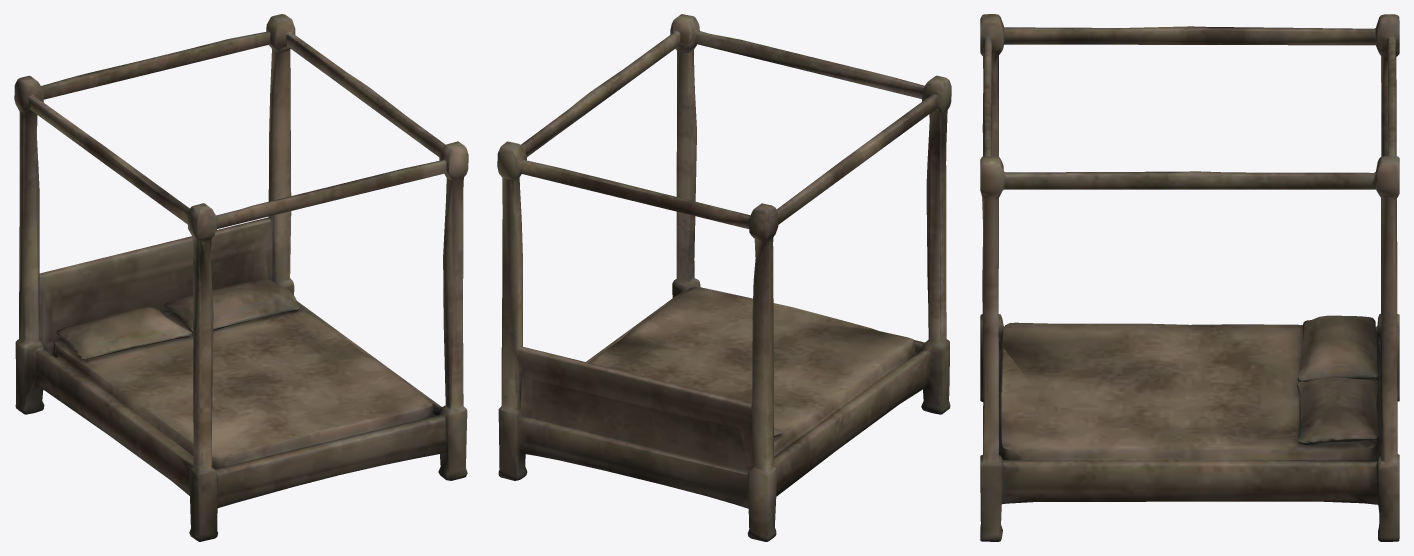
Rendered from simple-wood-four-poster-bed-v001.glb.
The picture shows the model from 3 angles, left to right: view 1: azimuth 30°, elevation 25°; view 2: azimuth 150°, elevation 25°; view 3: azimuth 270°, elevation 25°; orthographic projection. The views are drawn at different scales.
Visible parts, largest first — view 1: simple-wood-four-poster-bed; view 2: simple-wood-four-poster-bed; view 3: simple-wood-four-poster-bed.
Boxes of the visible parts, x1,y1,x2,y2 form: simple-wood-four-poster-bed: (14,14,468,541); simple-wood-four-poster-bed: (497,14,951,541); simple-wood-four-poster-bed: (980,14,1399,541).
Bounding box in the file's own units: 1.78 × 2.08 × 2.08.
1 material, 1 textured.
